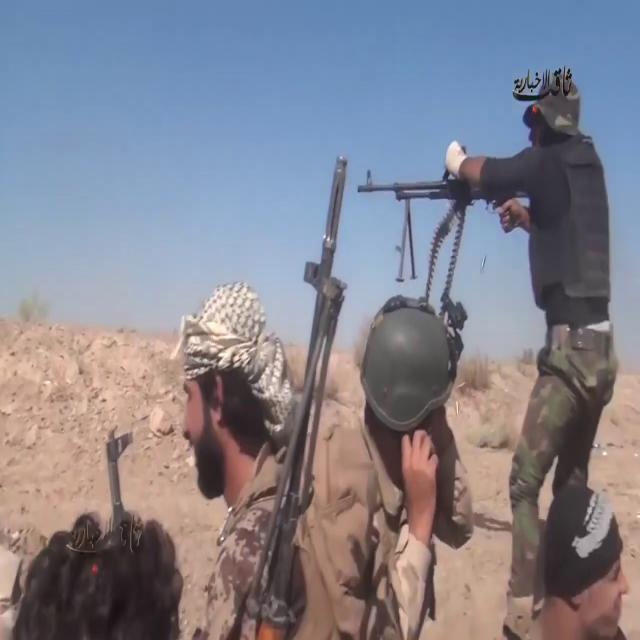long weapon: (349, 119, 527, 277)
